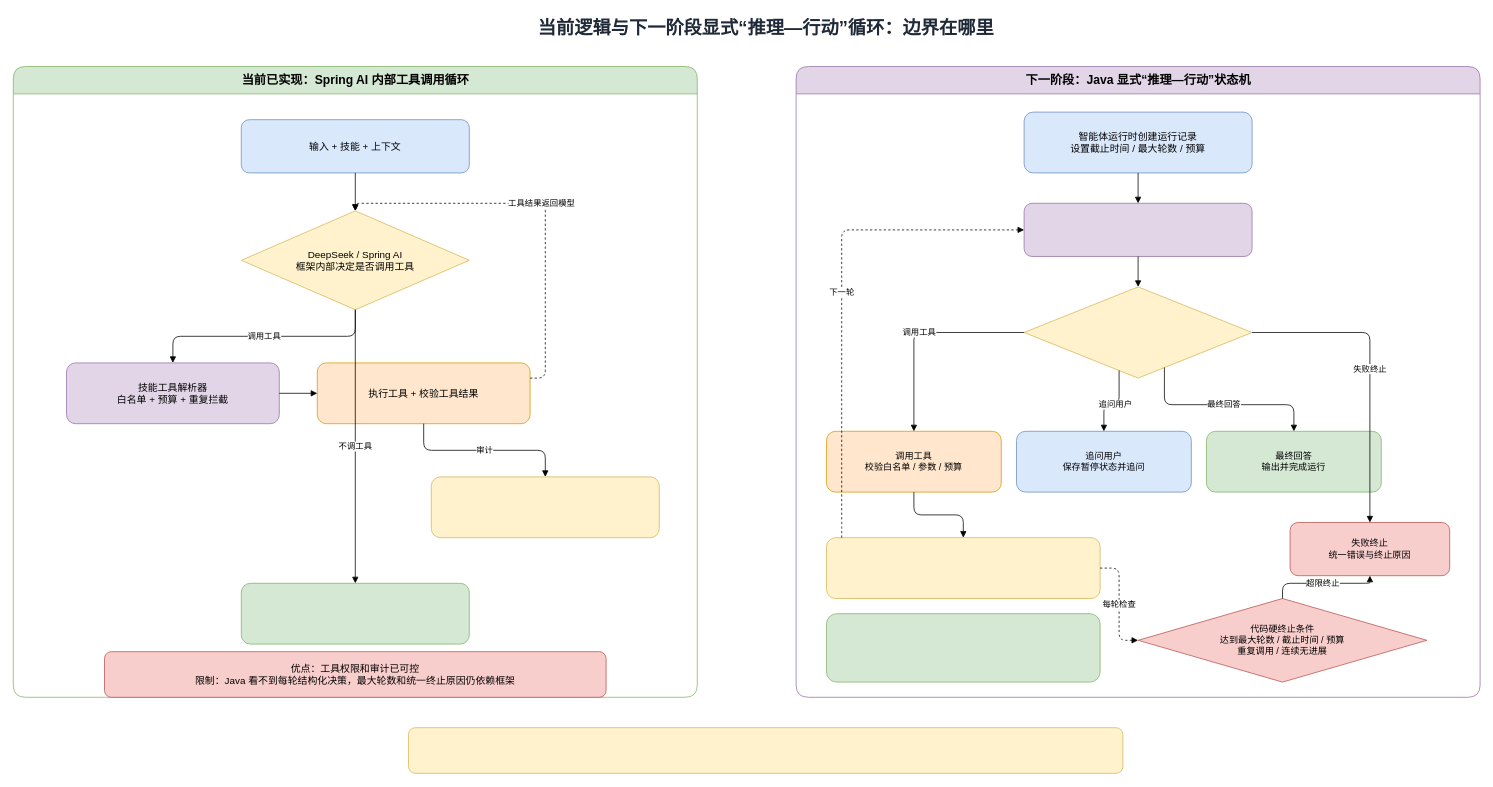
This 1493x787 diagram has some shape labels left out. Each missing label, with the centre of its shape:
"决策类型？" goes at pixel 1137 332.
"执行工具 → 校验工具结果 记录步骤 → 回到下一轮" goes at pixel 963 567.
"最终回答 运行完成或失败" goes at pixel 355 613.
"演进原则：保留现有技能工具解析、命令行契约校验和运行审计三表，只替换“谁控制循环”" goes at pixel 765 750.
"第 N 轮：请求结构化决策" goes at pixel 1137 229.
"结构化决策字段 类型 / 工具名 / 参数 / 回答 简短摘要 / 终止原因 不包含隐藏思维链" goes at pixel 963 647.
"运行审计服务 记录动作 / 工具结果 / 错误" goes at pixel 545 507.
